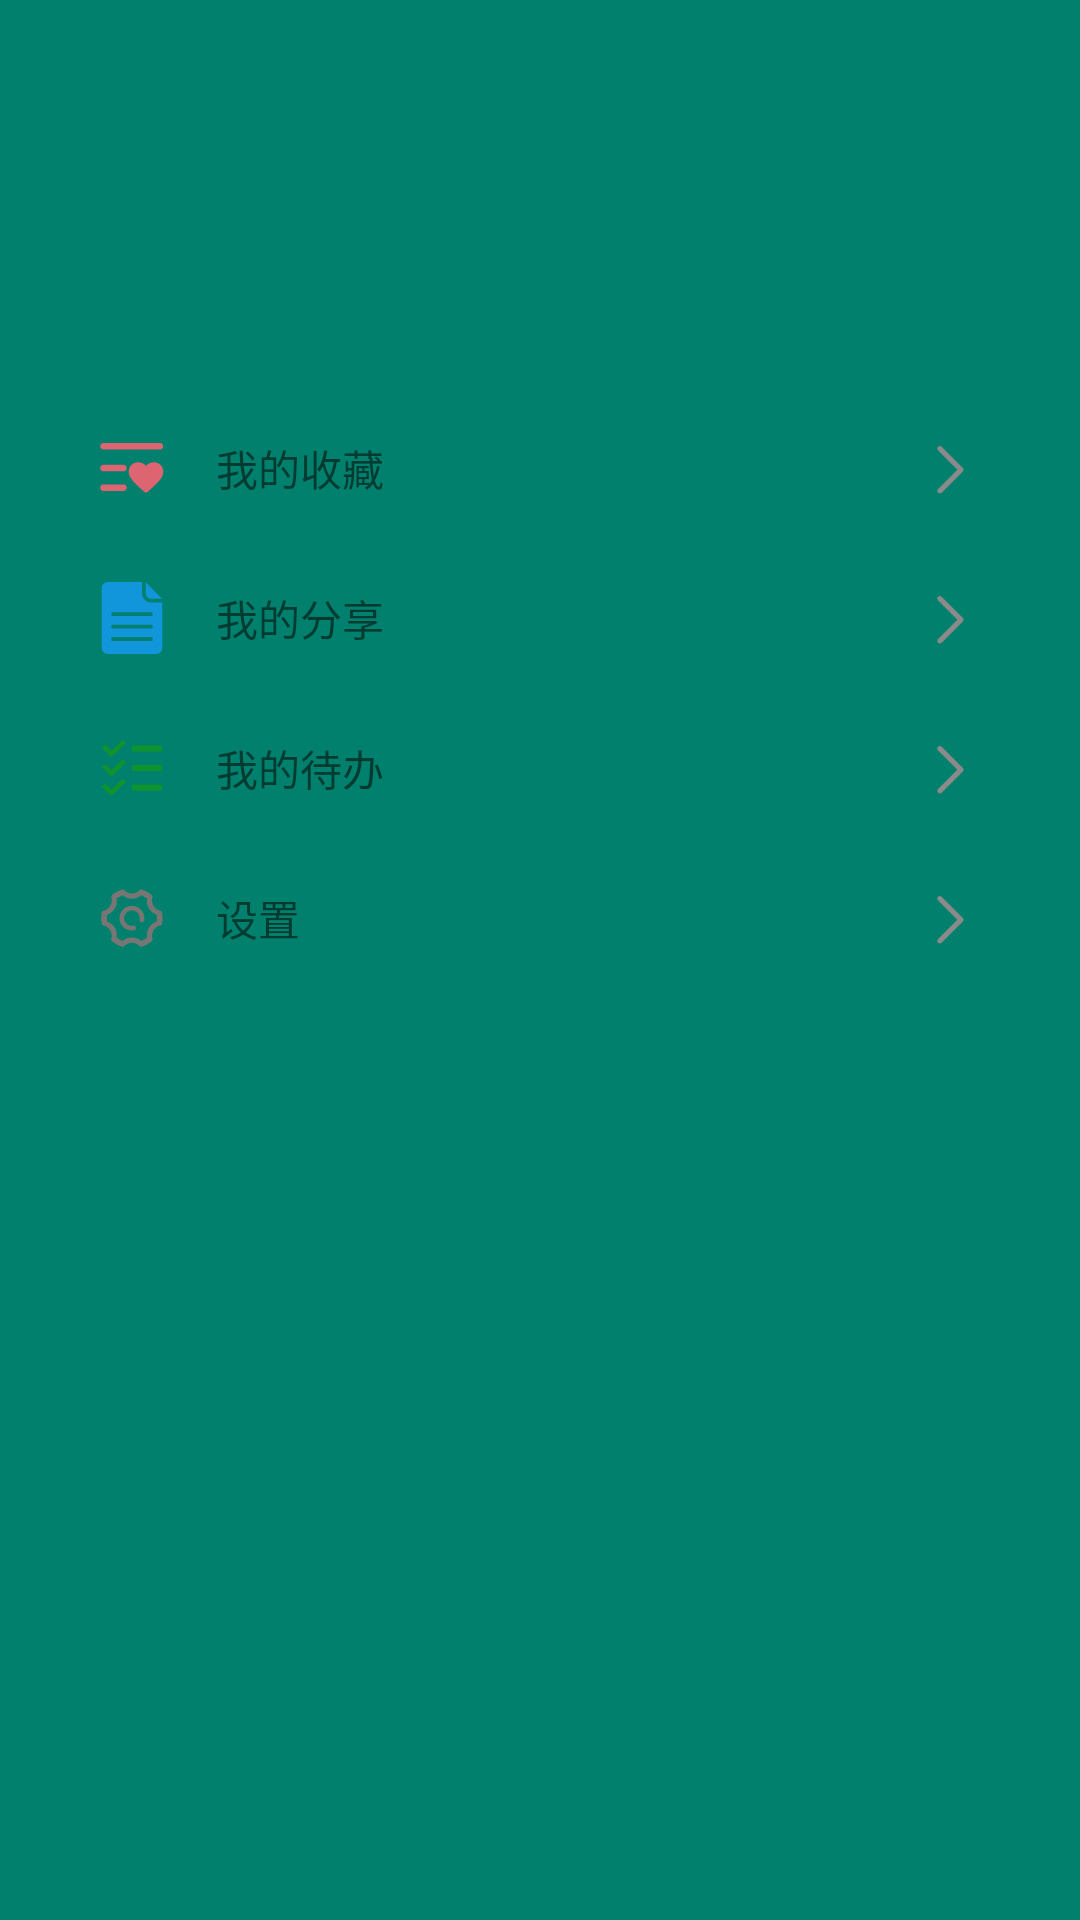

Locate icon controls on the screen. Image size 1080x1920, boxes as [x1=x1, y1=y1, x2=x2, y2=y2].
arrow right: [x1=937, y1=446, x2=964, y2=494], [x1=937, y1=596, x2=964, y2=644], [x1=937, y1=746, x2=964, y2=794], [x1=937, y1=896, x2=964, y2=944]
article list: [x1=101, y1=582, x2=163, y2=654]
collect list: [x1=100, y1=443, x2=164, y2=493]
setting: [x1=101, y1=889, x2=163, y2=947]
todo list: [x1=102, y1=740, x2=162, y2=796]
